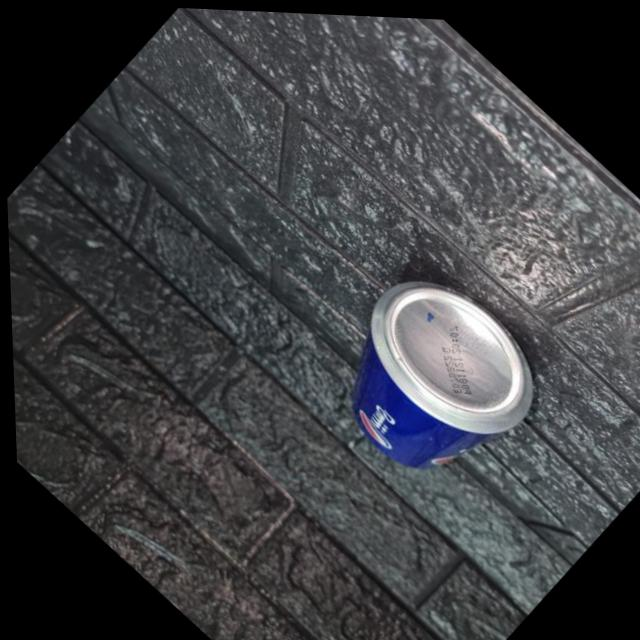metal: (353, 282, 532, 467)
